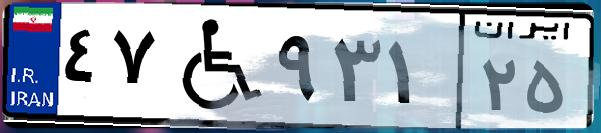1: (385, 28, 445, 110)
2: (475, 38, 525, 113)
3: (330, 28, 385, 110)
4: (57, 26, 110, 100)
5: (525, 38, 570, 115)
7: (110, 28, 158, 98)
9: (270, 28, 330, 110)
ژ (معلولین و جانبازان): (158, 12, 270, 120)
